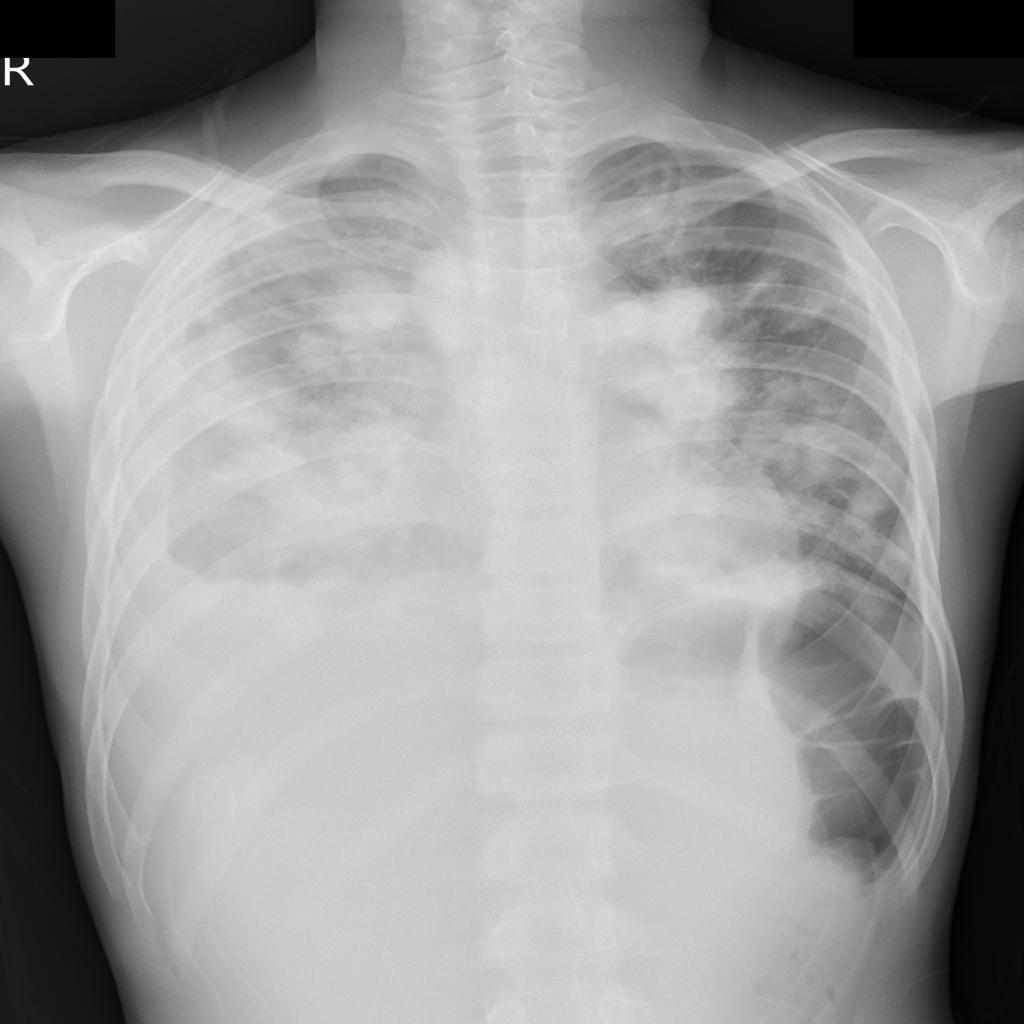Nodule: (623, 284, 742, 411)
